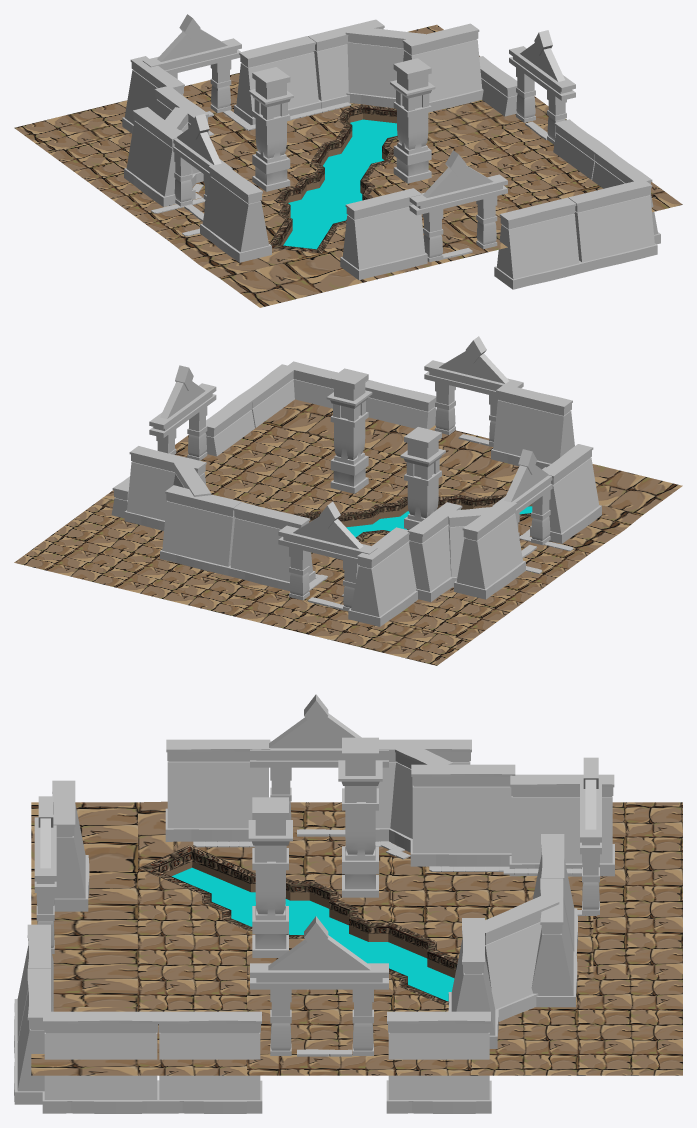
File: Blocking_Room1.fbx
3 renders of one model, top to bottom at view 1: azimuth 30°, elevation 25°; view 2: azimuth 150°, elevation 25°; view 3: azimuth 270°, elevation 25°, orthographic. The views are drawn at different scales.
Visible parts, largest first — view 1: polySurface1, wall_test_3, wall_test_21, wall_test_22, pPlane1, door, wall_test_7, wall_test_18, wall_test_1, pilar_test_1, pilar_test_2, wall_test_17 (+11 smaller); view 2: polySurface1, wall_test_22, wall_test_16, wall_test_13, wall_test_2, wall_test_1, door1, pilar_test_1, door, wall_test_7, wall_test_18, door3 (+11 smaller); view 3: polySurface1, wall_test_14, wall_test_20, wall_test_7, wall_test_19, wall_test_10, door3, wall_test_2, pPlane1, pilar_test_2, pilar_test_1, wall_test_17 (+11 smaller).
Part boxes in pixels (box(x1,y1,x2,y2)): polySurface1: box(14, 24, 682, 307); wall_test_3: box(494, 197, 581, 289); wall_test_21: box(568, 179, 657, 272); wall_test_22: box(340, 188, 427, 280); pPlane1: box(283, 119, 397, 249); door: box(409, 150, 507, 262); wall_test_7: box(200, 162, 271, 262); wall_test_18: box(402, 23, 483, 112); wall_test_1: box(234, 36, 320, 124); pilar_test_1: box(390, 58, 435, 183); pilar_test_2: box(248, 67, 293, 191); wall_test_17: box(345, 25, 425, 108); polySurface1: box(14, 399, 682, 665); wall_test_22: box(491, 384, 574, 469); wall_test_16: box(160, 485, 241, 575); wall_test_13: box(454, 499, 525, 599); wall_test_2: box(348, 527, 417, 626); wall_test_1: box(228, 502, 315, 590); door1: box(278, 501, 377, 611); pilar_test_1: box(326, 368, 372, 493); door: box(424, 336, 523, 445); wall_test_7: box(530, 444, 601, 543); wall_test_18: box(124, 446, 206, 530); door3: box(149, 365, 216, 460); polySurface1: box(31, 801, 682, 1075); wall_test_14: box(410, 764, 515, 866); wall_test_20: box(42, 1011, 159, 1113); wall_test_7: box(165, 739, 270, 841); wall_test_19: box(386, 1011, 491, 1113); wall_test_10: box(157, 1011, 262, 1113); door3: box(250, 916, 388, 1055); wall_test_2: box(509, 774, 614, 876); pPlane1: box(172, 867, 454, 1001); pilar_test_2: box(338, 737, 382, 897); pilar_test_1: box(248, 797, 292, 957); wall_test_17: box(470, 895, 559, 1021).
Bounding box in the file's own units: 33.09 × 11.45 × 34.11.
